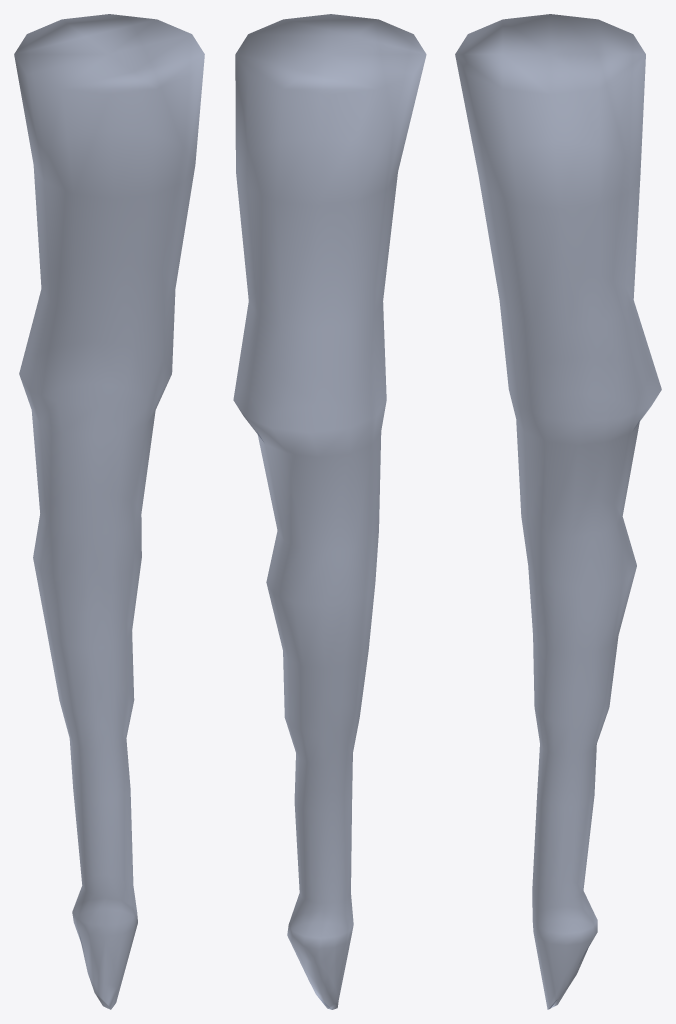
File: Icicle.fbx
The picture shows the model from 3 angles, left to right: view 1: azimuth 30°, elevation 25°; view 2: azimuth 150°, elevation 25°; view 3: azimuth 270°, elevation 25°; orthographic projection.
Visible parts, largest first — view 1: Icicle; view 2: Icicle; view 3: Icicle.
Boxes of the visible parts, <box> form: Icicle: <box>14,14,204,1009</box>; Icicle: <box>233,14,426,1009</box>; Icicle: <box>455,14,661,1009</box>.
Size of the model in its own units: 11.28 by 62.24 by 12.21.
